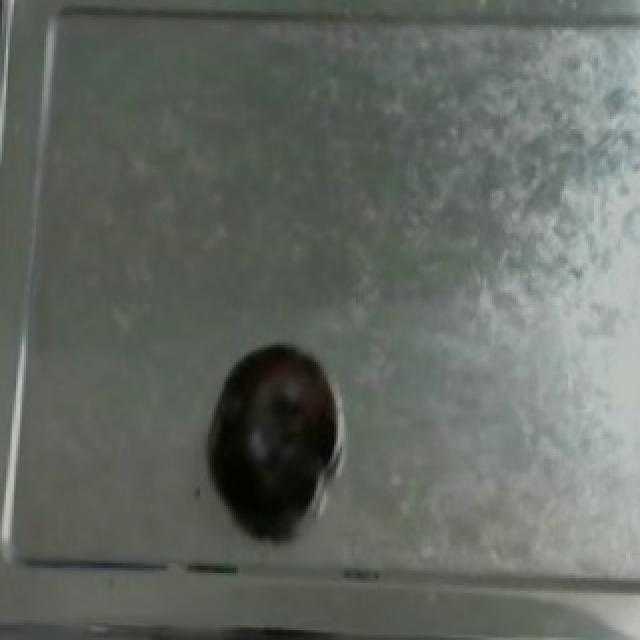Fruit: (206, 337, 344, 526)
